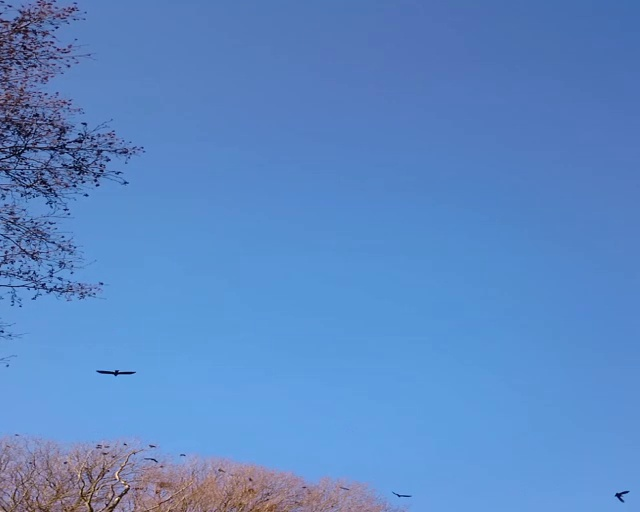BIRD: (614, 490, 630, 502)
